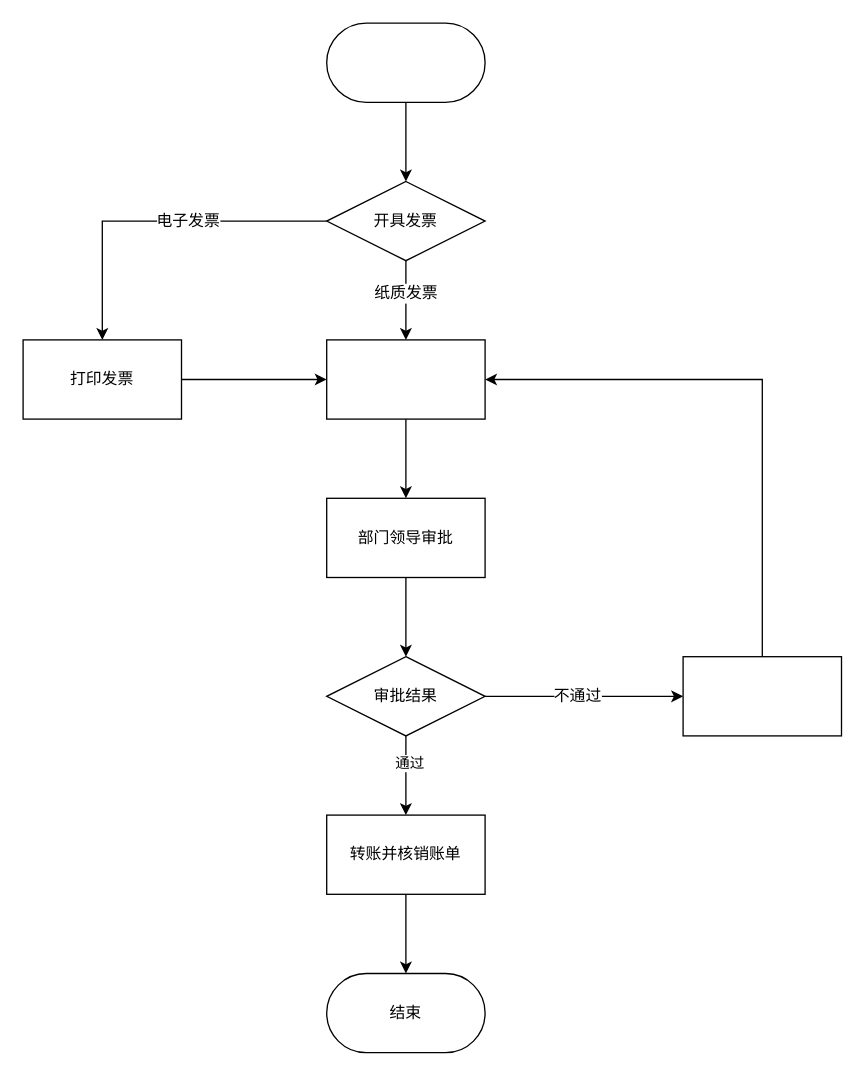
This 865x1076 diagram has some shape labels left out. The shapes that lost their labels are listed below. From the top down, each one's centre as x and y in pixels, then its label:
At point 405,62: "开始".
At point 405,379: "填写费用报销单并附上纸质发票".
At point 762,695: "了解报销规范".
